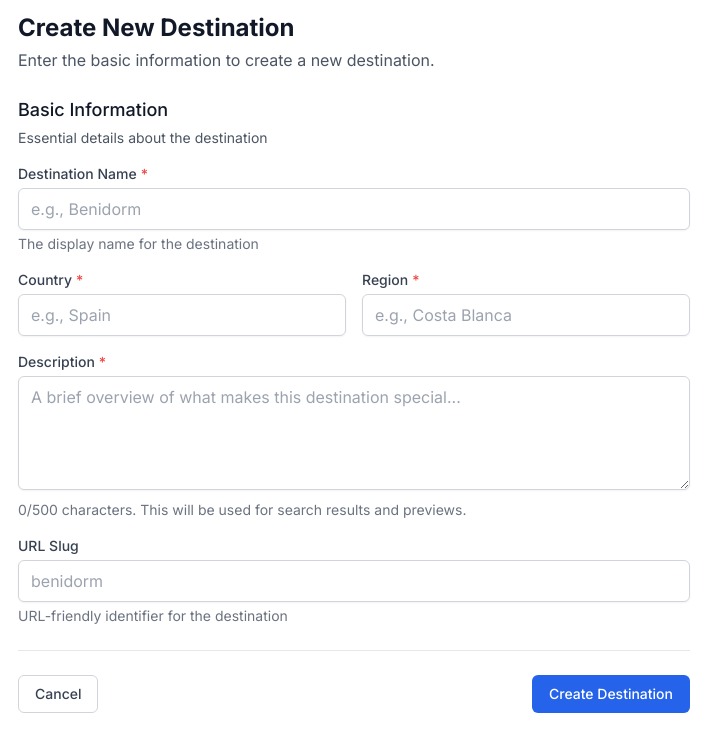
Test: DestinationForm › Slug Generation › auto-generates slug from name
The width and height of the screenshot is (709, 730).
Type "Costa del Sol" into the field labelled "Destination Name*" at point(354, 209), box [18,188,690,230]
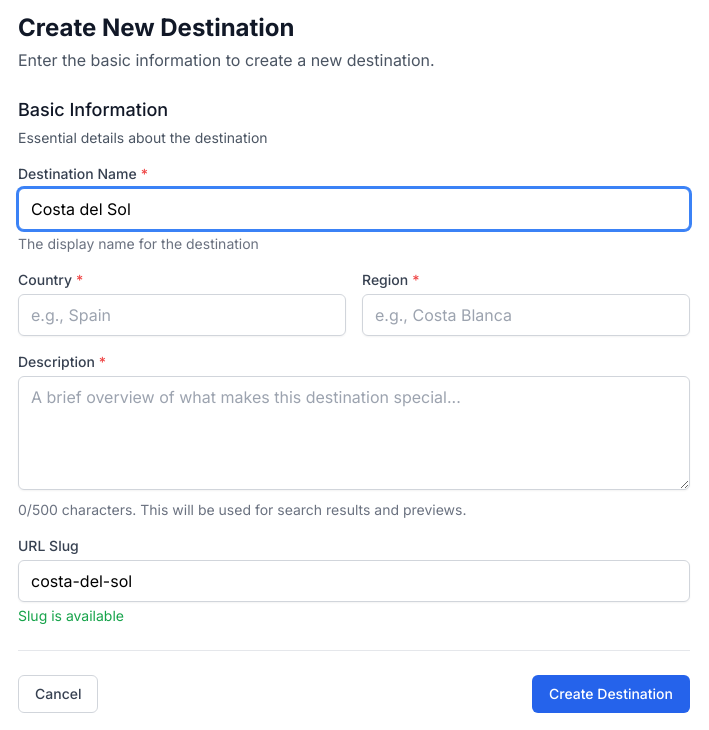
Expected: the field labelled "URL Slug" holds "costa-del-sol", [18,560,690,602]
